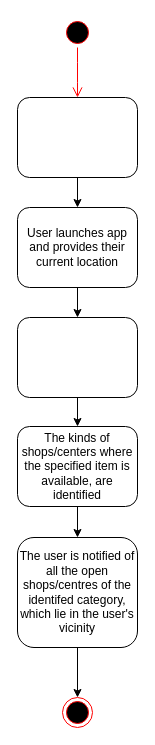
Image size: 155x745. Some labels were removed from this diagram. Here are the shapes that lost their labels. From the top down, the centre of each, then its label:
(77,137): Each open shop in a locality is marked as open
(77,357): User specifies what they need (eg. rice)
